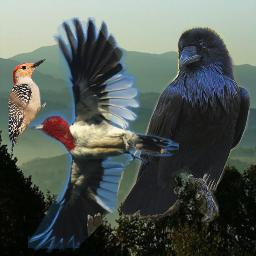Crow: (122, 26, 250, 222)
Woodpecker: (28, 17, 179, 253), (8, 58, 46, 154)
